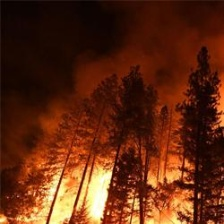fire: (4, 142, 220, 224)
